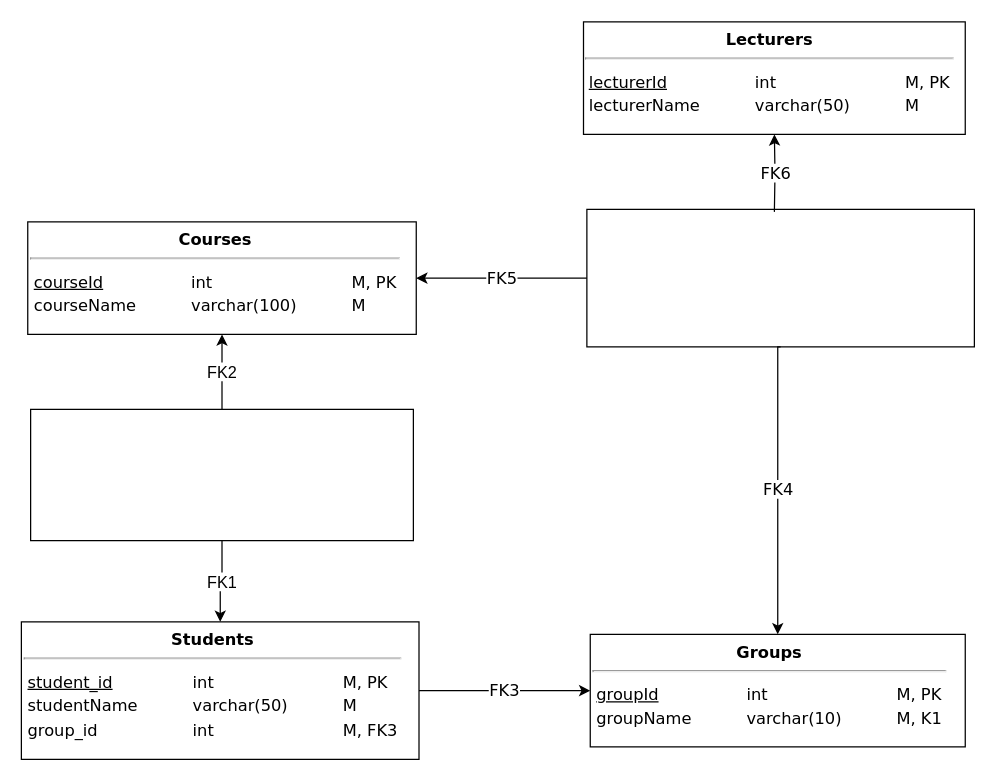
This 998x781 diagram has some shape labels left out. Here are the shapes that lost their labels. From the top down, the centre of each, then its label:
point 780,277: StudyingPlan groupId int M, FK4 courseId int M, FK5 lecturerId int M, FK6
point 221,474: Marks studentId int M, FK1 courseId int M, FK2 mark varchar(2) M
